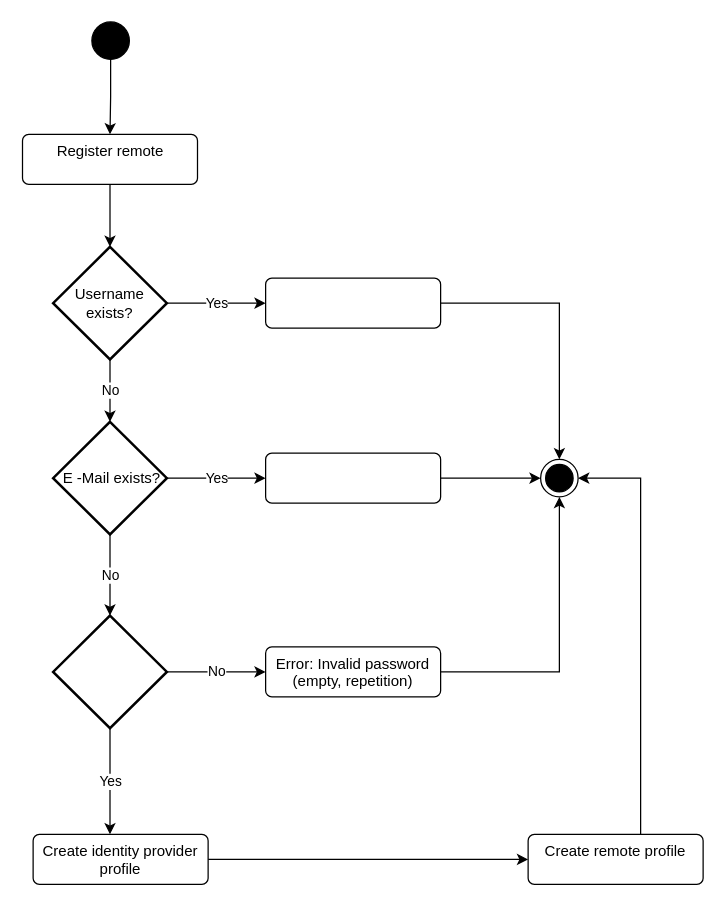
This 725x906 diagram has some shape labels left out. Here are the shapes that lost their labels. From the top down, the box of each, then its label:
(264, 277, 441, 328): Error: Username exists
(264, 452, 441, 503): Error: E-Mail exists
(51, 614, 168, 729): Password valid?
